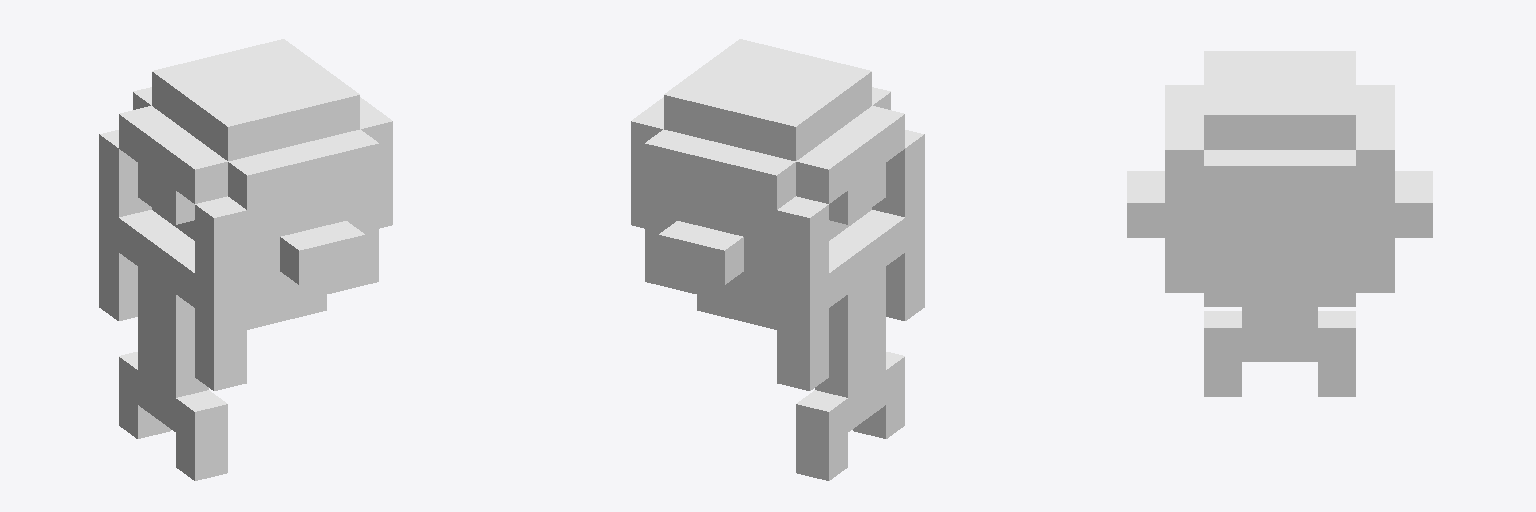
The model's file is Dwarf3.obj.
3 views of the same model, side by side, from view 1: azimuth 30°, elevation 25°; view 2: azimuth 150°, elevation 25°; view 3: azimuth 270°, elevation 25° (orthographic).
Visible parts, largest first — view 1: object 1; view 2: object 1; view 3: object 1.
Part boxes in pixels (bbox=[...]): object 1: bbox=[99, 39, 392, 480]; object 1: bbox=[631, 39, 924, 480]; object 1: bbox=[1127, 51, 1432, 396].
Size of the model in its own units: 0.6 by 1 by 0.8.